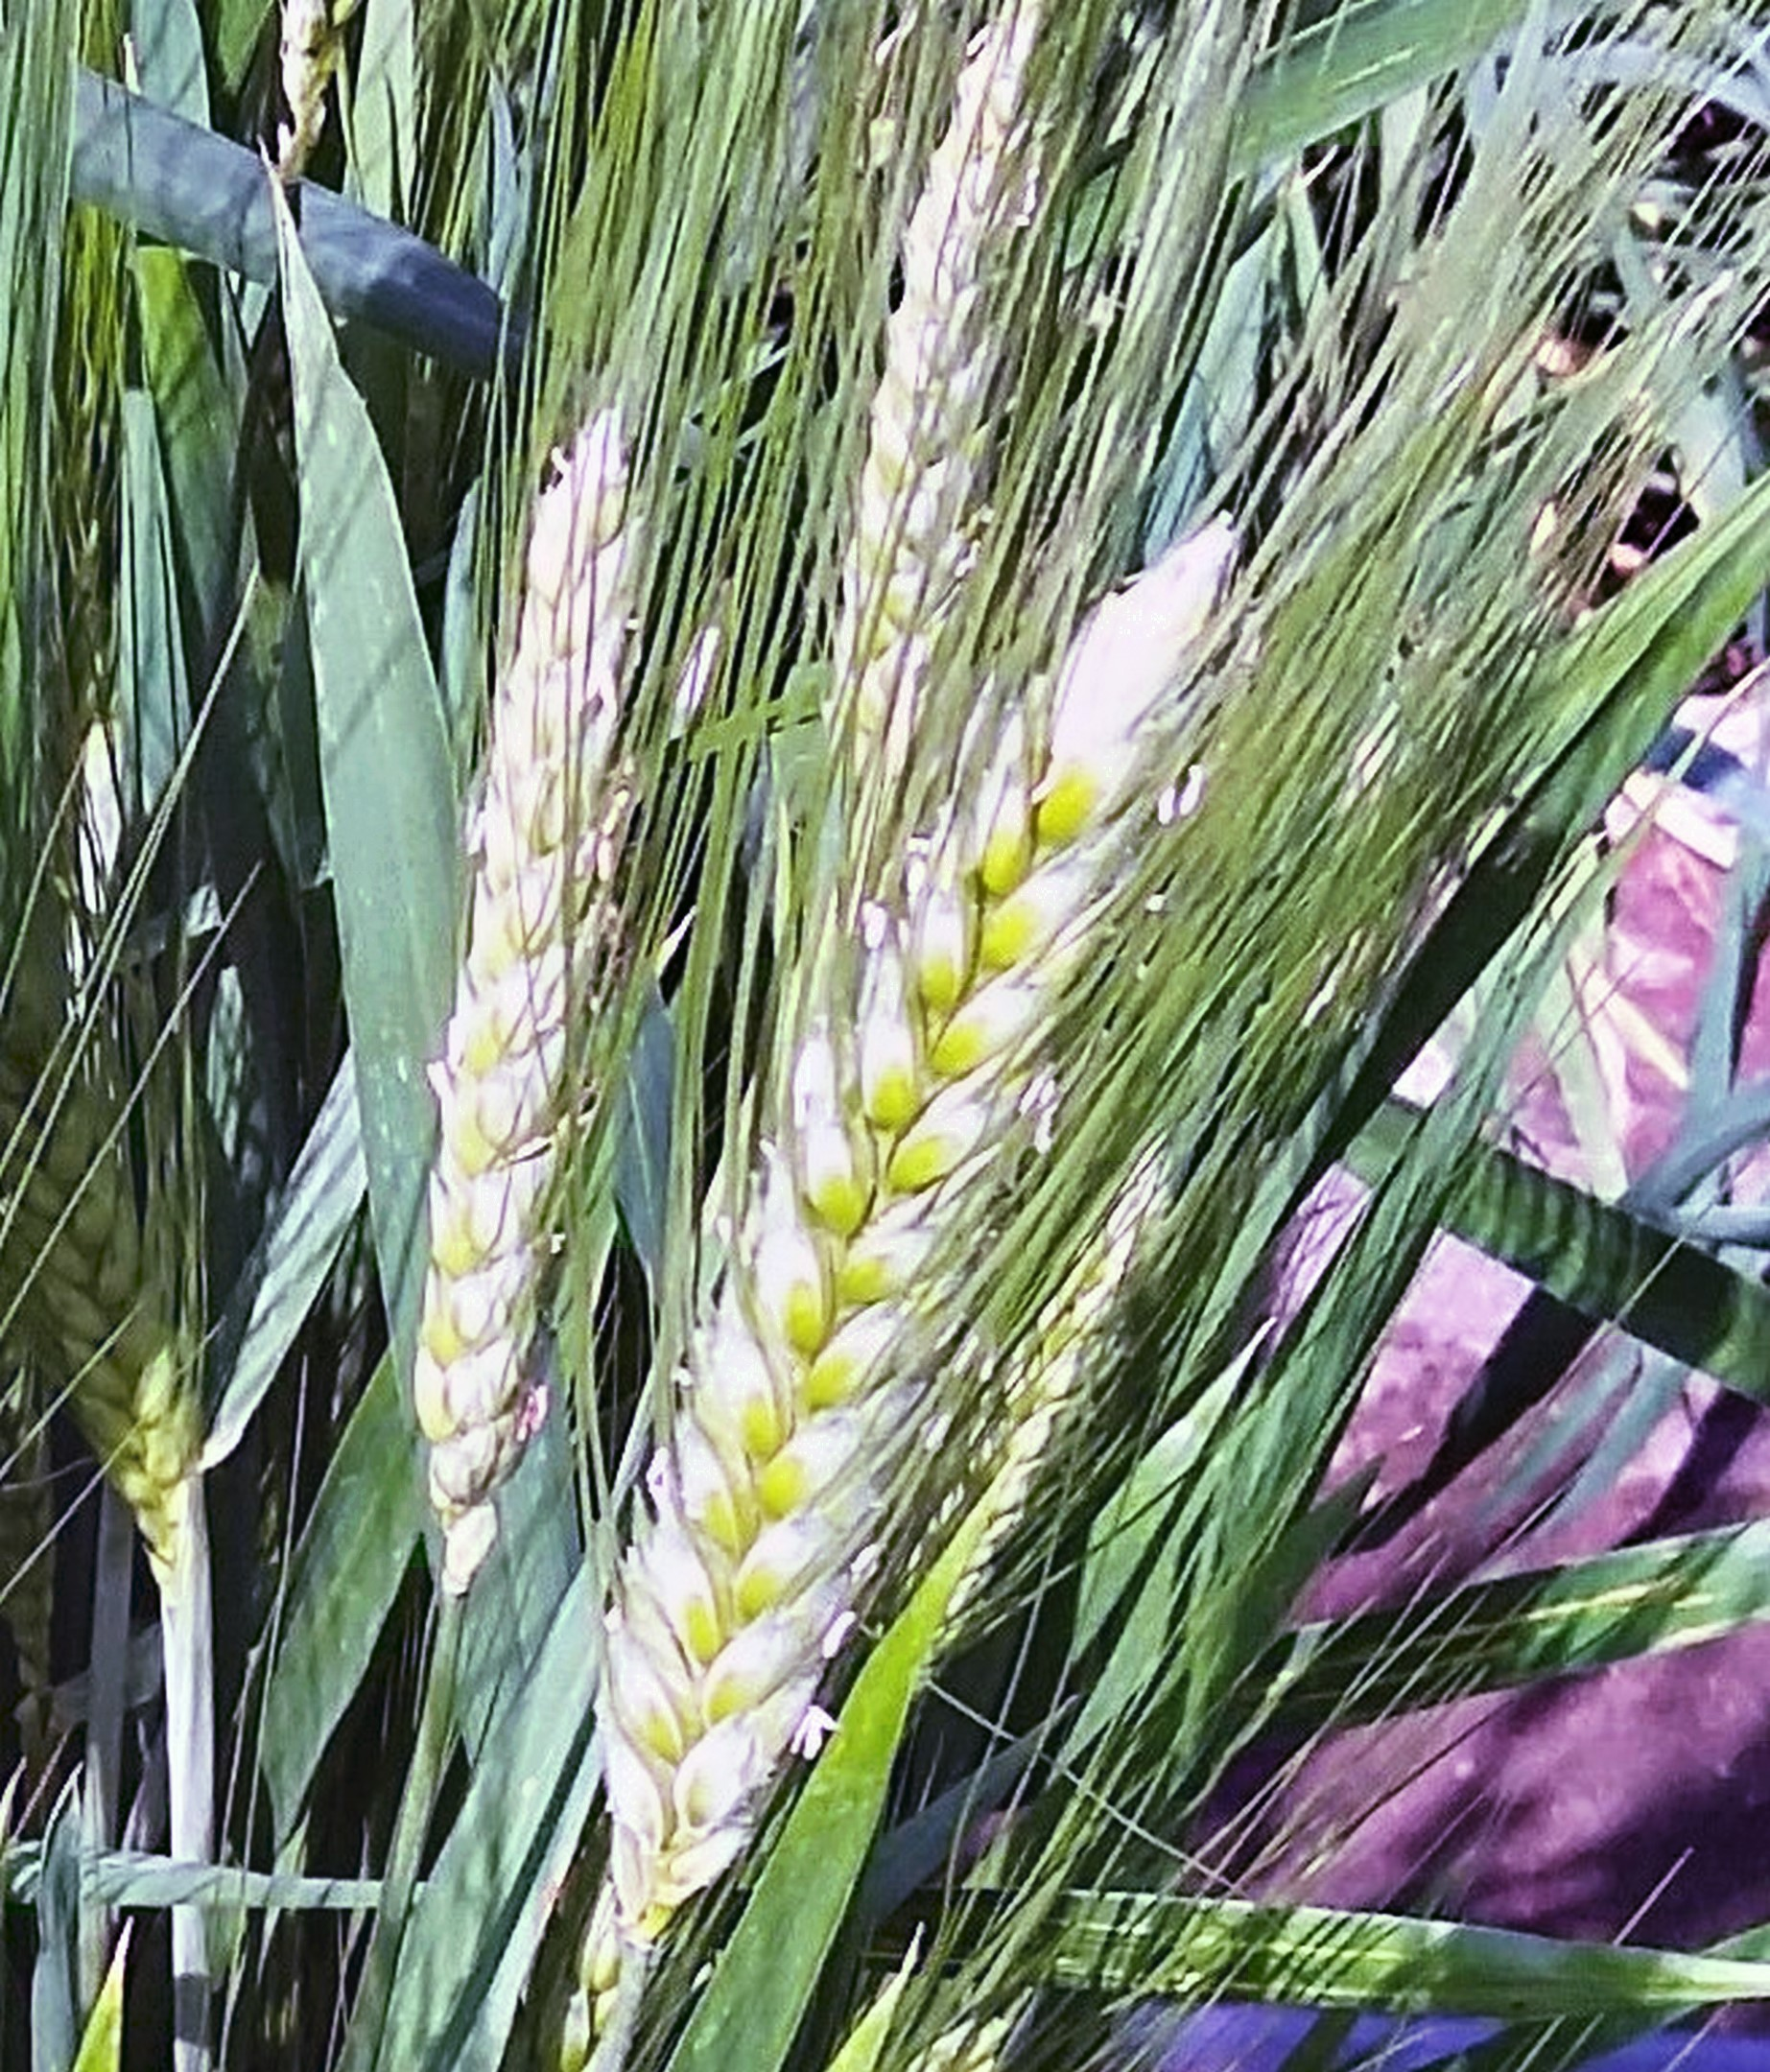Healthy Wheat: (613, 711, 1213, 1895)
